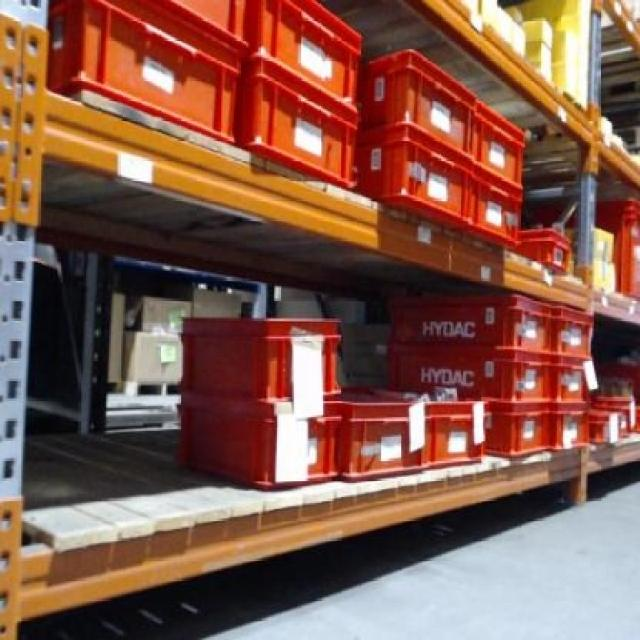pallets: (354, 48, 522, 242), (388, 292, 589, 452), (175, 317, 337, 486), (23, 397, 178, 489)
